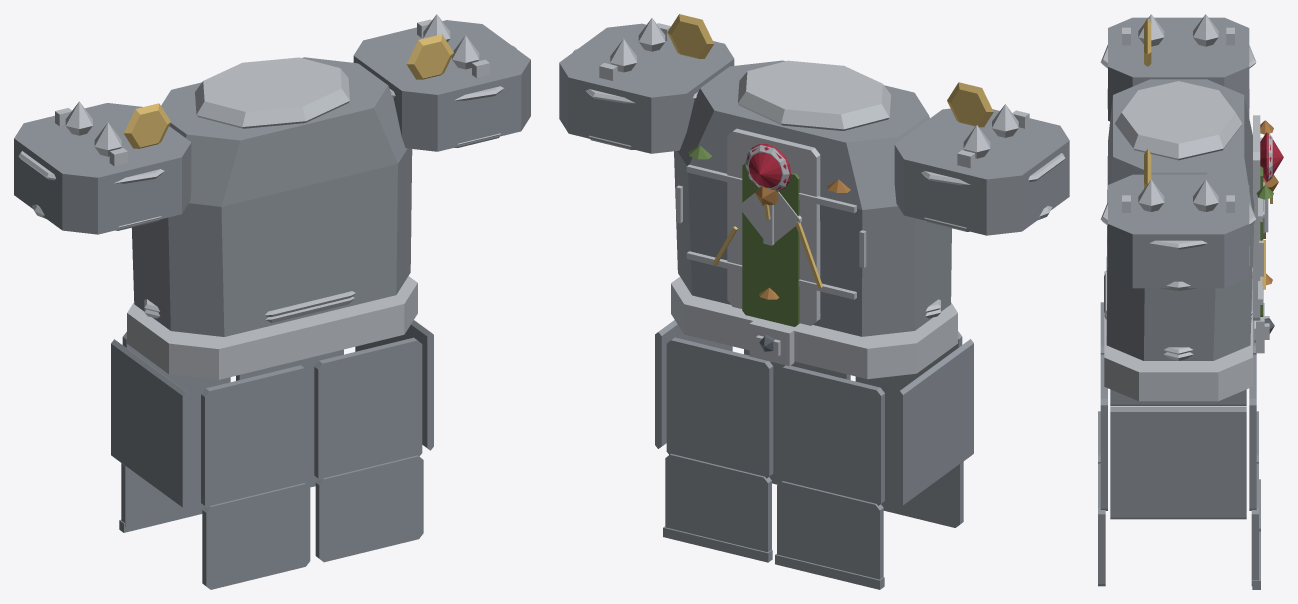
The model's file is armor_healer_s5.fbx.
3 renders of one model, left to right at view 1: azimuth 30°, elevation 25°; view 2: azimuth 150°, elevation 25°; view 3: azimuth 270°, elevation 25°, orthographic. The views are drawn at different scales.
Visible parts, largest first — view 1: Chest_Body, Tasset_L_Body, Tasset_R_Body, Chest_Trim, Shoulder_L_Body, Shoulder_R_Body, Chest_Crack_Tr, Shoulder_L_Trim, Shoulder_R_Trim, Chest_Trim_Ep; view 2: Tasset_L_Body, Chest_Body, Chest_Trim, Tasset_R_Body, Shoulder_L_Body, Shoulder_R_Body, Chest_Attach, Chest_Crack_Tr, Shoulder_L_Trim, Shoulder_R_Trim, Chest_CoreGem; view 3: Tasset_R_Body, Chest_Trim, Chest_Body, Shoulder_R_Body, Shoulder_L_Body, Shoulder_R_Trim, Tasset_L_Body, Shoulder_L_Trim, Chest_Crack_Tr, Chest_CoreGem, Chest_Attach, Chest_Trim_Ep.
Boxes of the visible parts, x1,y1,x2,y2 form: Chest_Body: (131, 57, 412, 336); Tasset_L_Body: (111, 332, 310, 589); Tasset_R_Body: (236, 320, 433, 562); Chest_Trim: (127, 57, 417, 379); Shoulder_L_Body: (14, 103, 191, 234); Shoulder_R_Body: (353, 20, 530, 151); Chest_Crack_Tr: (123, 34, 453, 148); Shoulder_L_Trim: (18, 101, 164, 230); Shoulder_R_Trim: (390, 14, 516, 147); Chest_Trim_Ep: (144, 291, 355, 316); Tasset_L_Body: (775, 331, 973, 589); Chest_Body: (674, 60, 951, 336); Chest_Trim: (671, 60, 957, 379); Tasset_R_Body: (655, 320, 850, 562); Shoulder_L_Body: (894, 108, 1069, 235); Shoulder_R_Body: (559, 23, 734, 153); Chest_Attach: (688, 145, 799, 326); Chest_Crack_Tr: (667, 14, 993, 288); Shoulder_L_Trim: (921, 104, 1065, 231); Shoulder_R_Trim: (573, 18, 698, 149); Chest_CoreGem: (747, 144, 791, 191); Tasset_R_Body: (1098, 354, 1260, 589); Chest_Trim: (1104, 81, 1272, 401); Chest_Body: (1106, 79, 1254, 360); Shoulder_R_Body: (1108, 174, 1249, 288); Shoulder_L_Body: (1108, 17, 1249, 121); Shoulder_R_Trim: (1100, 179, 1256, 290); Tasset_L_Body: (1098, 302, 1260, 531); Shoulder_L_Trim: (1100, 14, 1256, 108); Chest_Crack_Tr: (1144, 18, 1272, 289); Chest_CoreGem: (1260, 132, 1283, 182); Chest_Attach: (1256, 166, 1273, 316); Chest_Trim_Ep: (1104, 272, 1252, 354).
Size of the model in its own units: 428 by 401 by 150.
